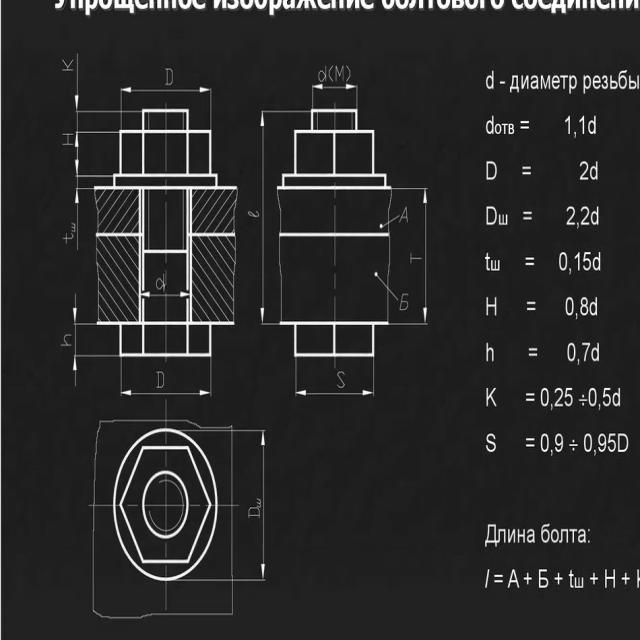marking_line: (259, 112, 266, 323), (260, 432, 266, 577), (422, 192, 428, 323), (120, 390, 211, 397), (121, 86, 212, 93), (297, 388, 372, 396), (312, 80, 359, 92), (74, 189, 82, 252), (141, 289, 190, 298), (74, 52, 80, 110), (73, 136, 81, 177), (70, 294, 78, 323), (72, 356, 78, 386)
numeric: (560, 112, 603, 137), (554, 246, 593, 270), (582, 431, 617, 455), (537, 385, 573, 407), (565, 203, 593, 230), (563, 294, 590, 318), (586, 384, 612, 408), (567, 339, 590, 366), (577, 158, 598, 182), (539, 433, 563, 454)
